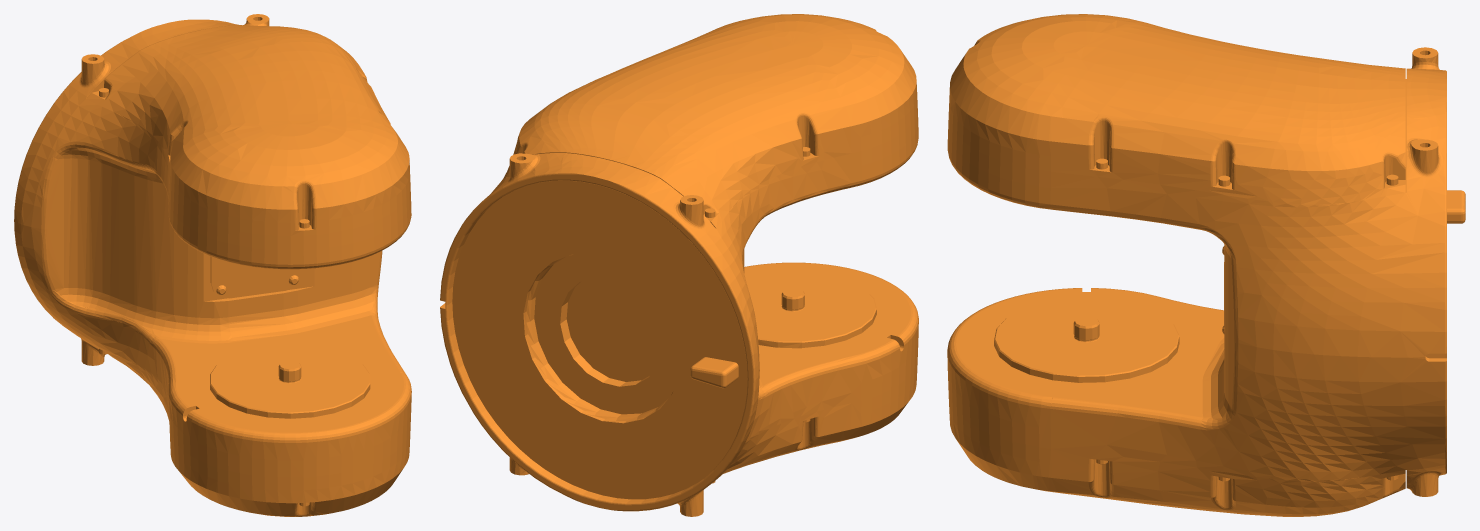
File: linkhou_LR4_R560_link2_visual_vis_1.dae
The picture shows the model from 3 angles, left to right: view 1: azimuth 30°, elevation 25°; view 2: azimuth 150°, elevation 25°; view 3: azimuth 270°, elevation 25°; orthographic projection. The views are drawn at different scales.
Parts seen in each view (by area): view 1: Node_0000029808437810; view 2: Node_0000029808437810; view 3: Node_0000029808437810.
Part boxes in pixels (left/top/right/bottom): Node_0000029808437810: left=14, top=14, right=411, bottom=516; Node_0000029808437810: left=440, top=14, right=918, bottom=516; Node_0000029808437810: left=947, top=14, right=1465, bottom=516.
Bounding box in the file's own units: 0.1851 × 0.2109 × 0.2374.
